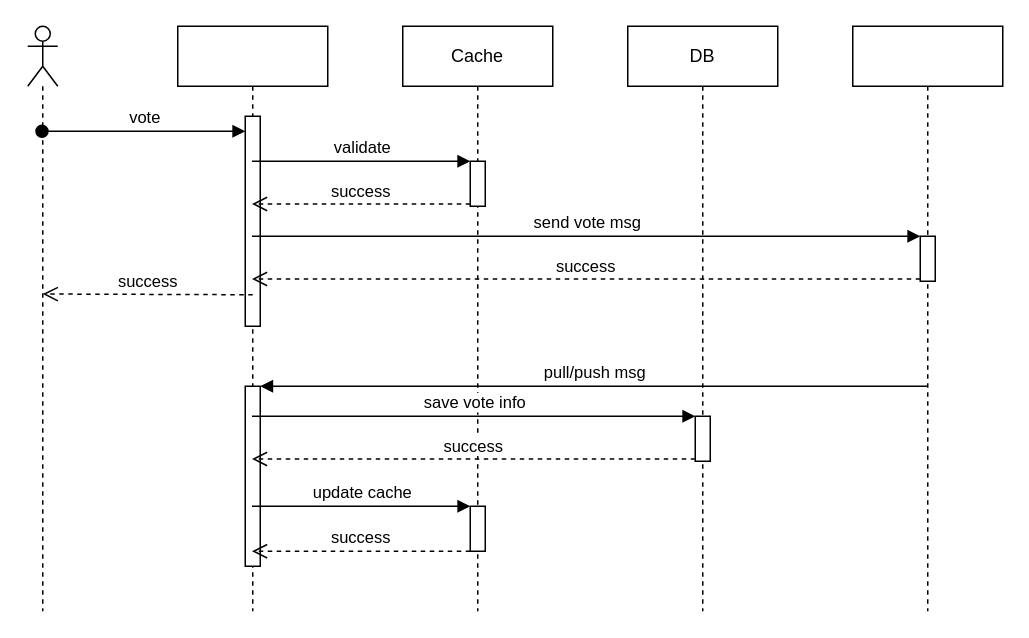
Some shapes in this 1029 by 638 pixel diagram are drawn without their labels. Here are the shapes that lost their labels. From the top down, the centre of each, then its label:
At [252,318]: "VoteService".
At [927,318]: "MQ".
